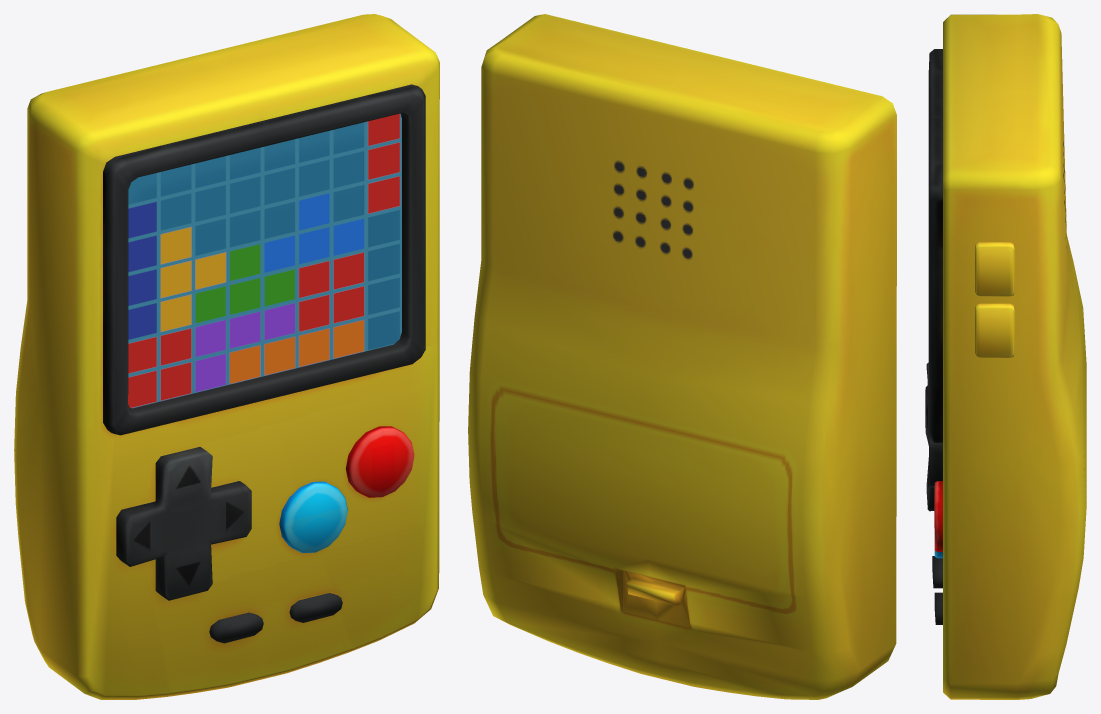
File: YouXiJi4.FBX
3 views of the same model, side by side, from view 1: azimuth 30°, elevation 25°; view 2: azimuth 150°, elevation 25°; view 3: azimuth 270°, elevation 25° (orthographic). The views are drawn at different scales.
Parts seen in each view (by area): view 1: YouXiJi; view 2: YouXiJi; view 3: YouXiJi.
Boxes of the visible parts, box(x1,y1,x2,y2) form: YouXiJi: box(14, 14, 439, 699); YouXiJi: box(468, 14, 896, 699); YouXiJi: box(925, 14, 1086, 699).
Bounding box in the file's own units: 69.07 × 105 × 27.56.
